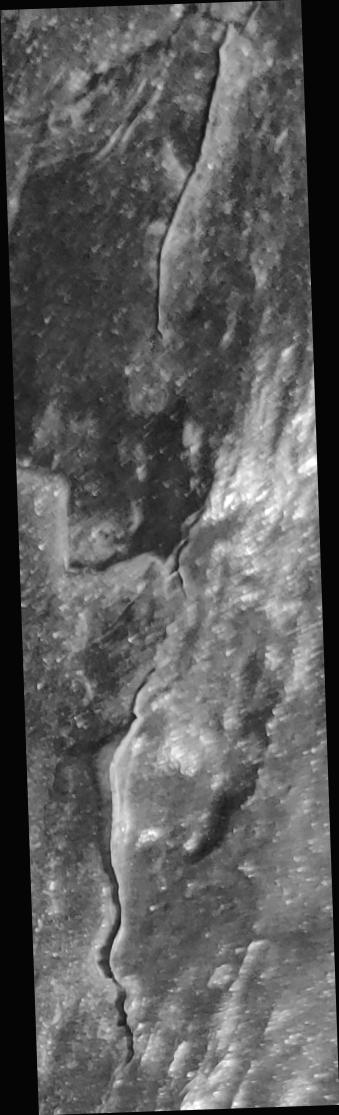crack: (1, 0, 339, 1115)
